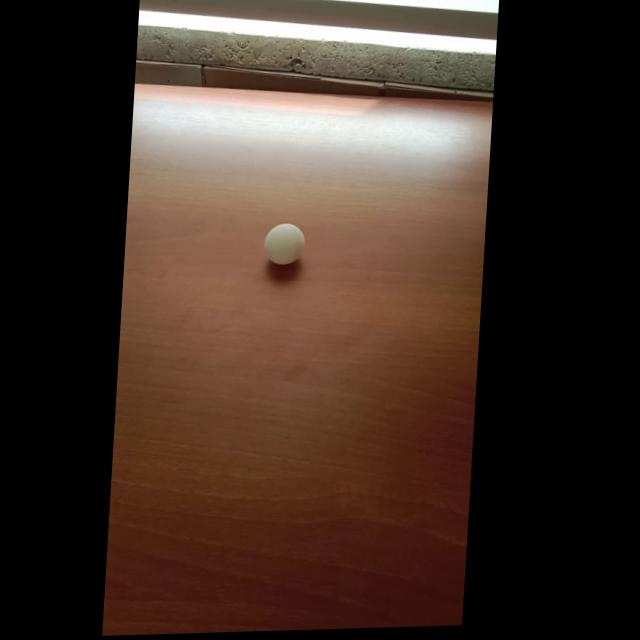white ball: (262, 221, 306, 265)
